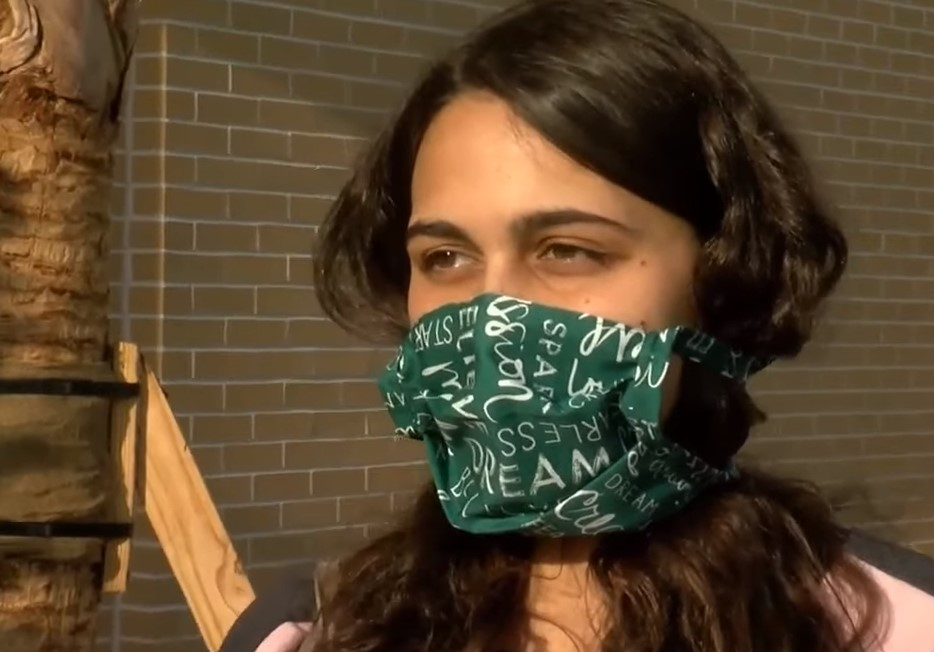face_with_mask: (373, 11, 775, 548)
